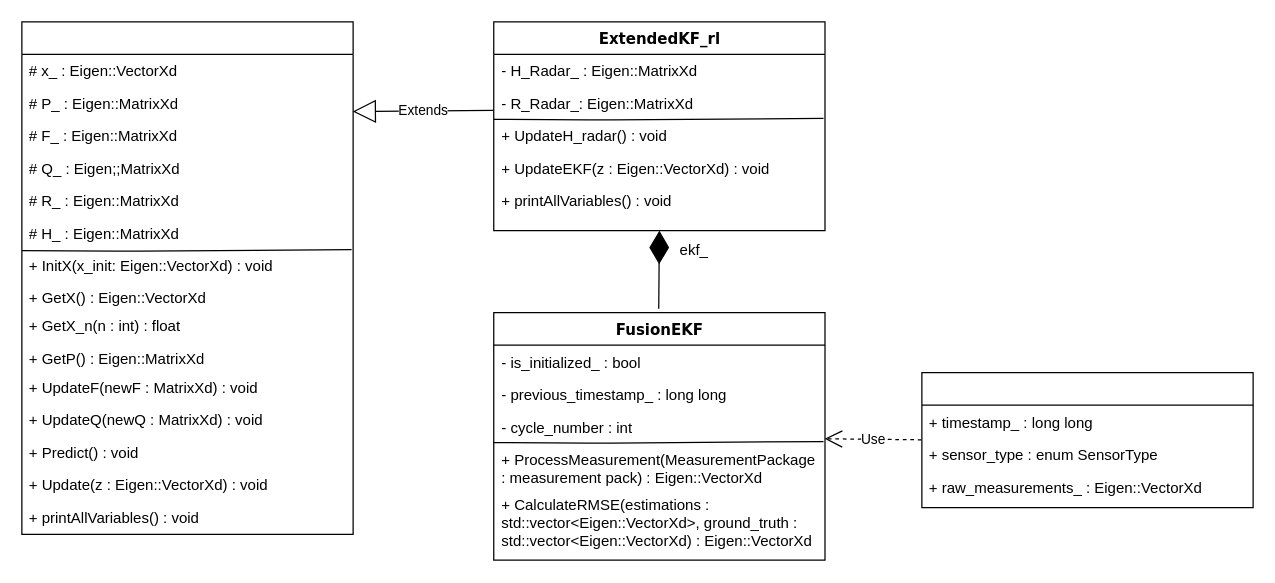
Image size: 1275x583. Some labels were removed from this diagram. Each missing label, with the box of its shape:
KalmanFilter: (21, 21, 353, 534)
MeasurementPackage: (921, 371, 1253, 508)
